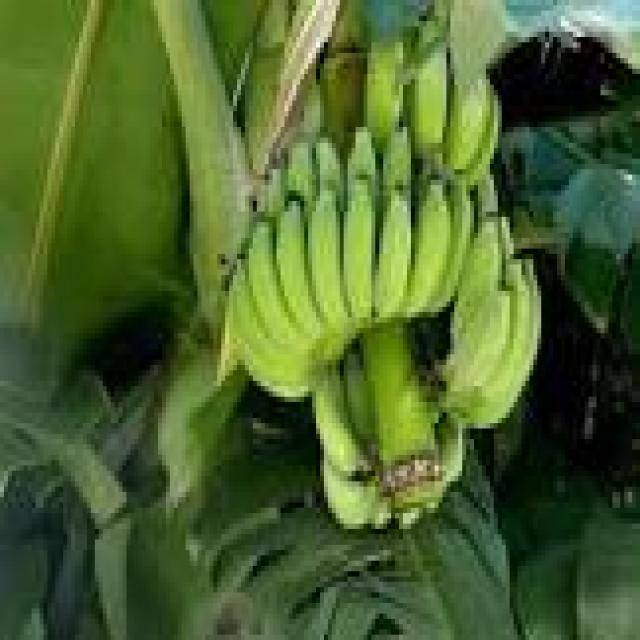banana: (459, 260, 541, 428), (360, 323, 438, 470), (230, 265, 312, 401), (245, 223, 308, 354), (443, 286, 513, 401), (403, 180, 454, 317), (451, 217, 505, 338), (277, 201, 323, 343), (309, 191, 351, 343), (313, 365, 367, 476), (431, 180, 474, 312), (443, 75, 493, 174), (407, 43, 450, 158), (344, 180, 375, 327), (376, 191, 410, 322), (320, 461, 383, 528), (364, 38, 402, 148), (340, 350, 375, 454), (463, 90, 501, 185), (285, 138, 316, 211), (348, 127, 379, 195), (435, 418, 466, 486), (384, 127, 410, 200), (317, 138, 343, 200), (261, 170, 288, 216)
